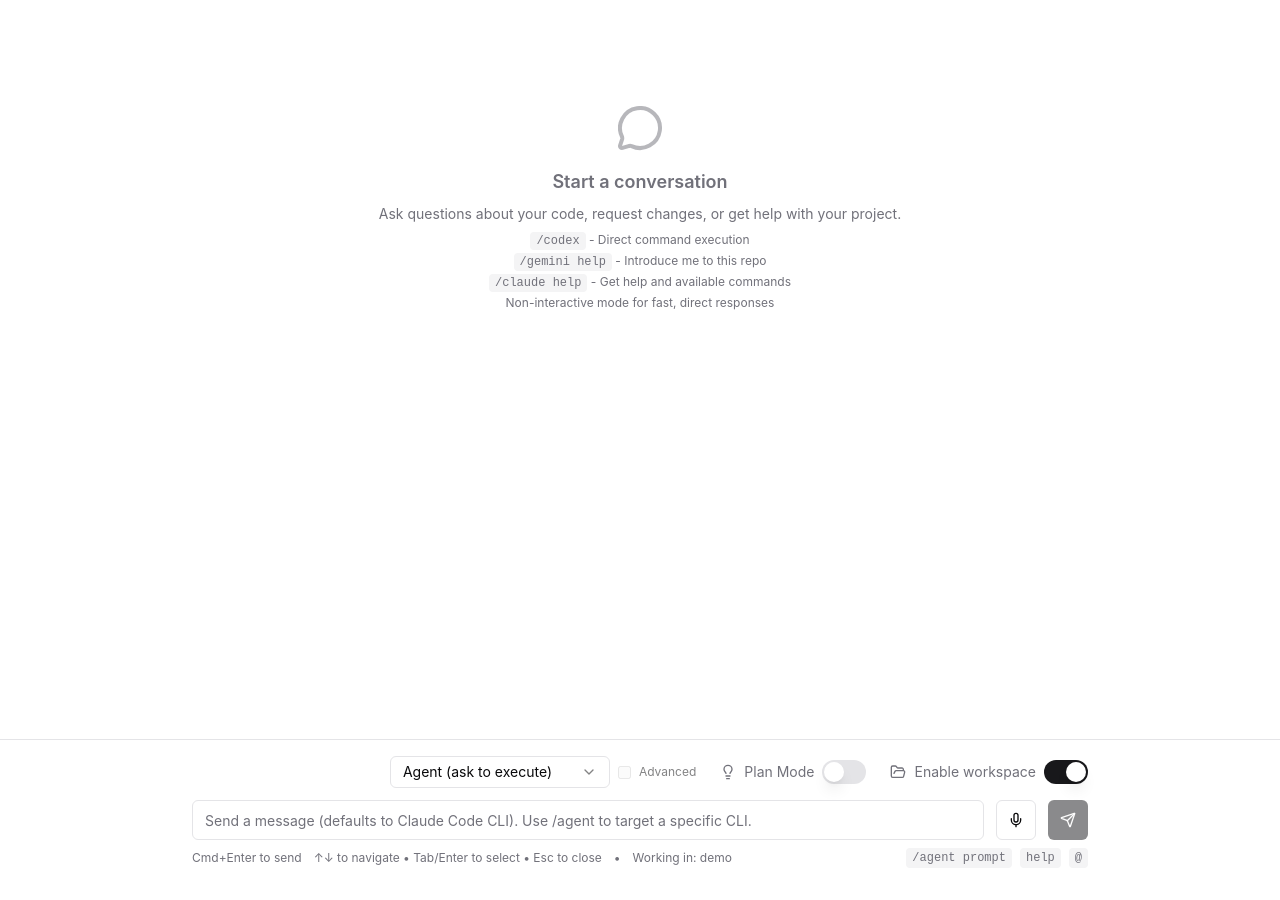
Test: ChatInterface disabled agent › blocks disabled agent and shows toast
Replace the text in the field with "/codex help" at (588, 820), box [192, 800, 984, 840]
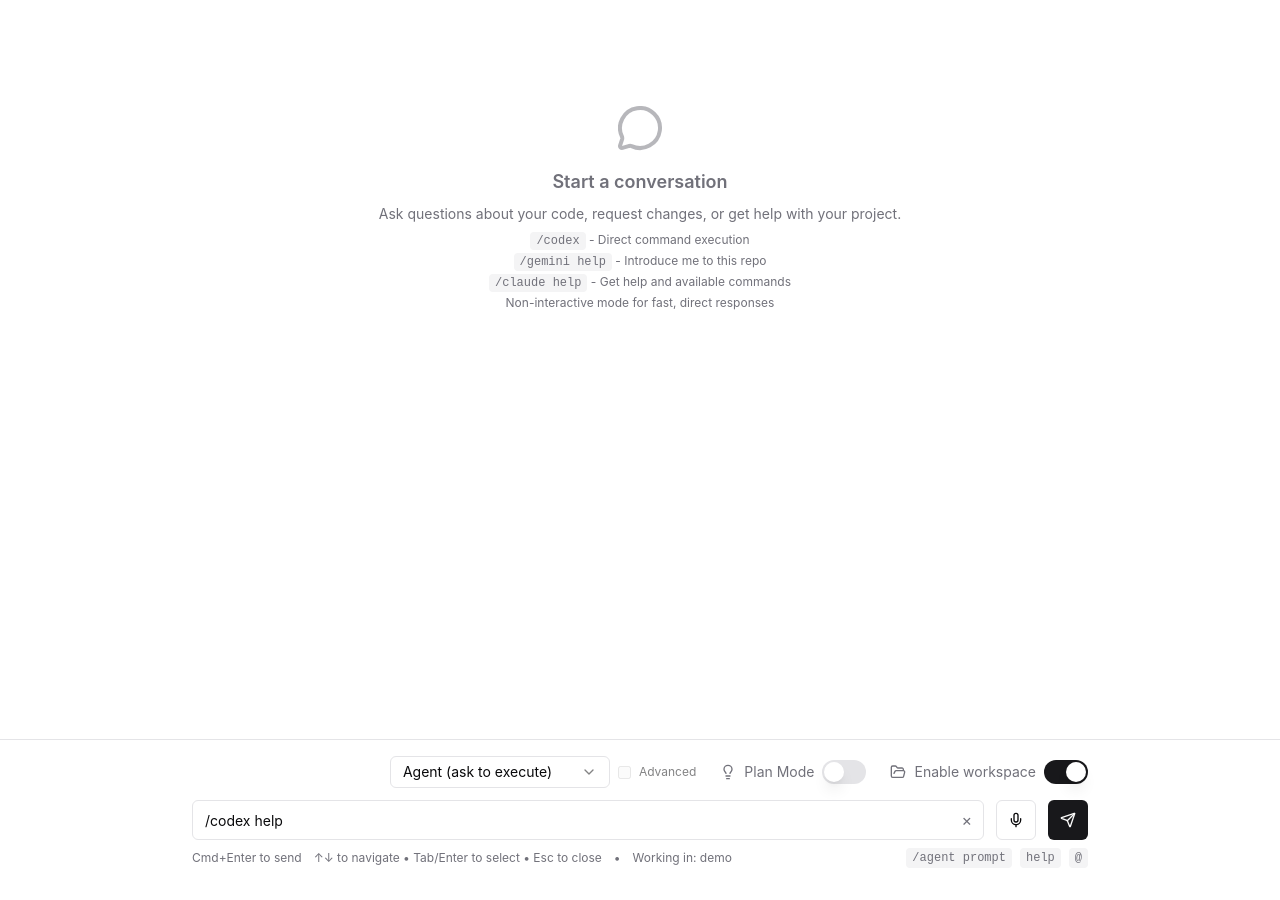
Press Enter in the field, box [192, 800, 984, 840]
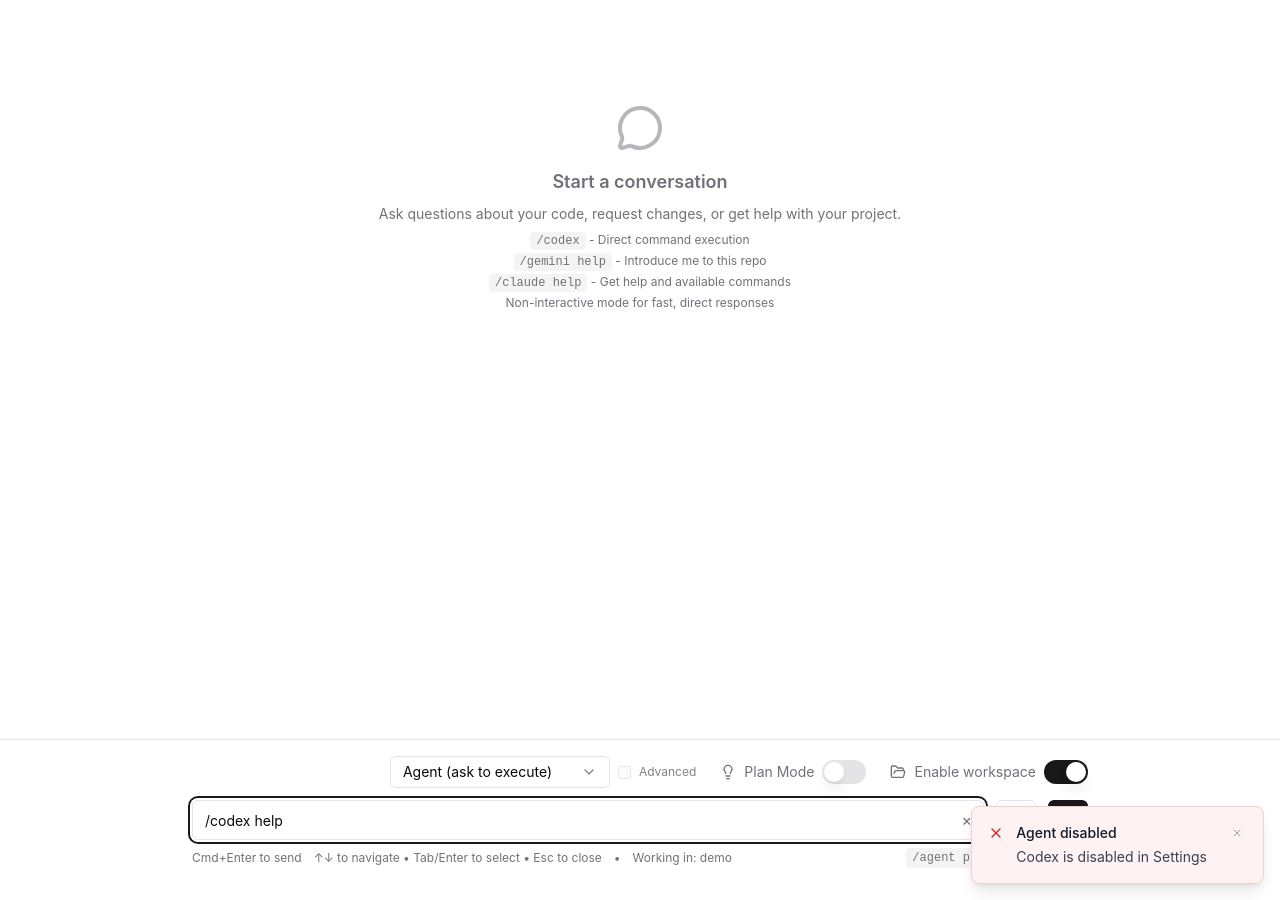
expect the text "Agent disabled" is shown: met, box [1016, 824, 1117, 841]
